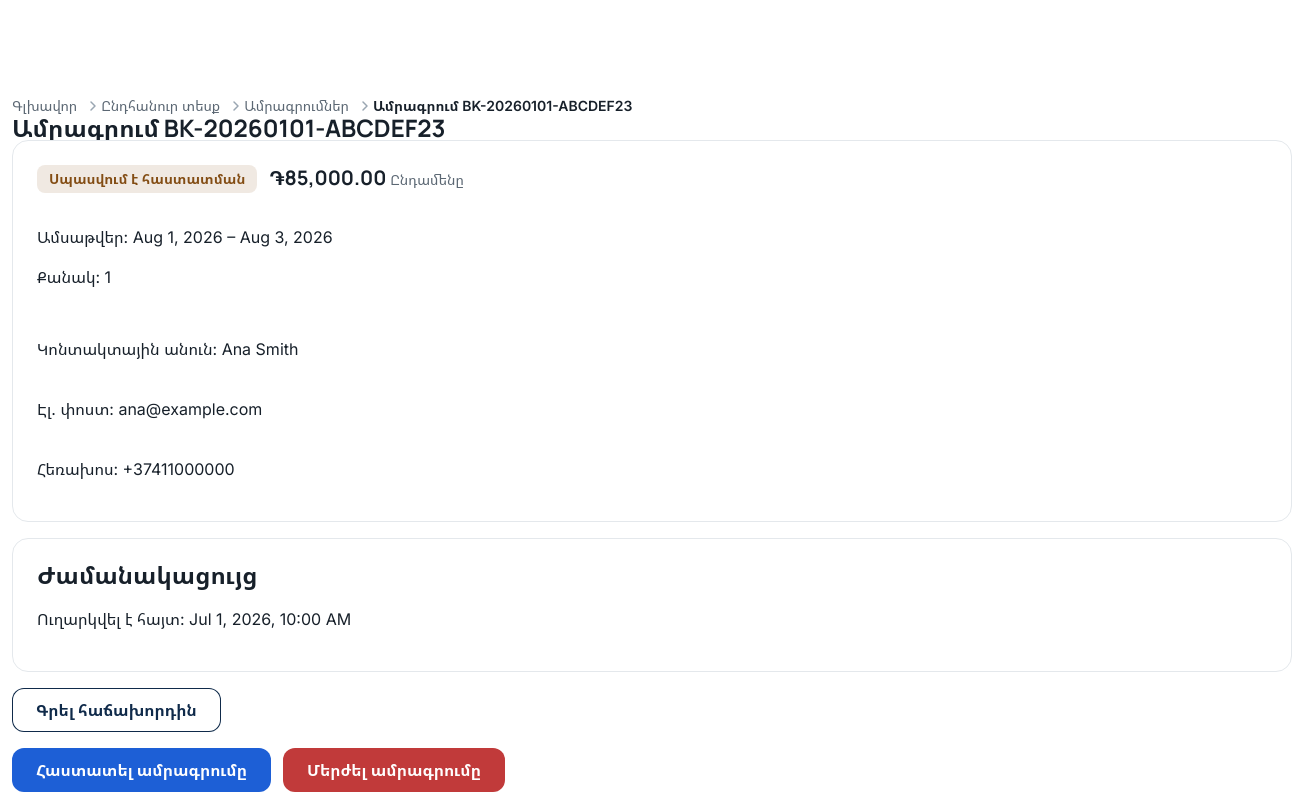
Test: PartnerBookingDetailContent (apps/web/src/modules/partner) › shows an error toast when starting a conversation with the customer fails
Click the button "Գրել հաճախորդին".
click(116, 710)  # box x1=12 y1=688 x2=221 y2=732
(page scrolled)
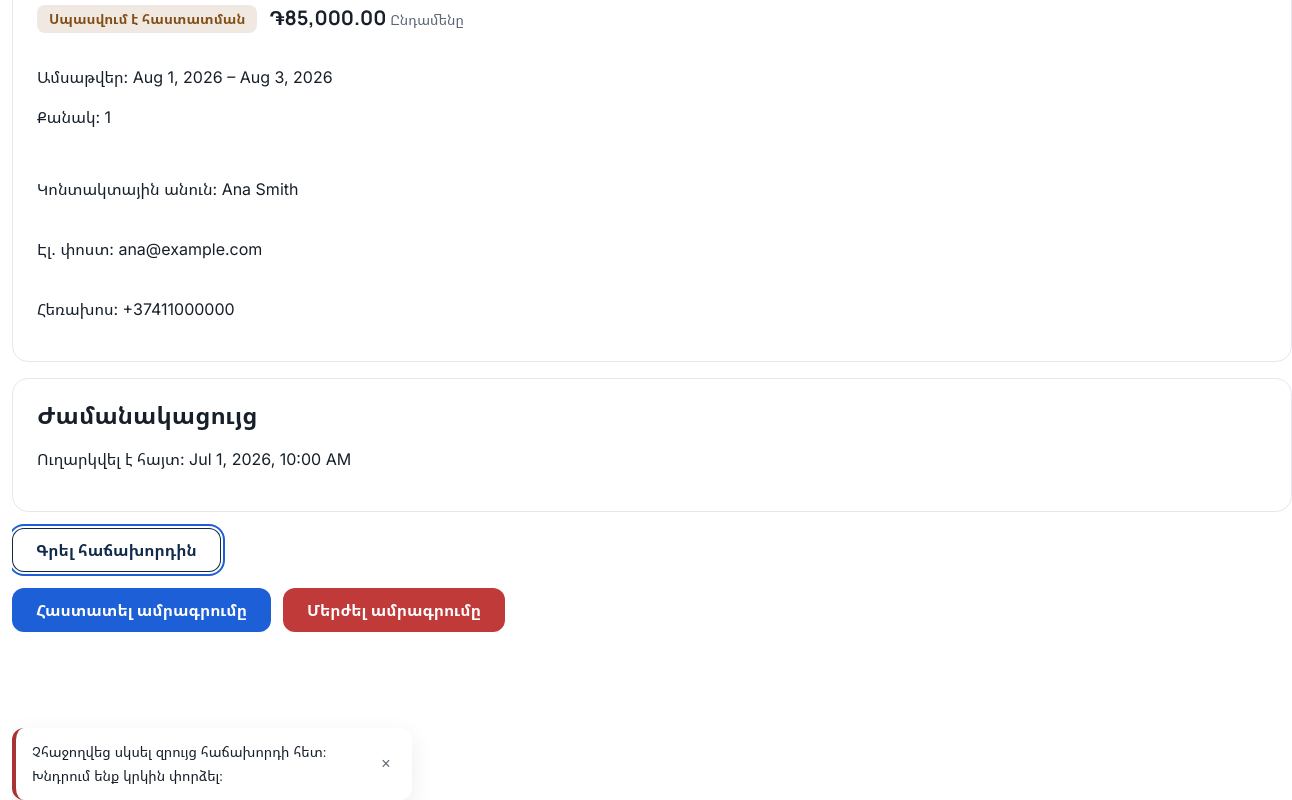
Check: the text "Չհաջողվեց սկսել զրույց հաճախորդի հետ։ Խնդրում ենք կրկին փորձել։" is shown, box x1=32 y1=740 x2=364 y2=788
